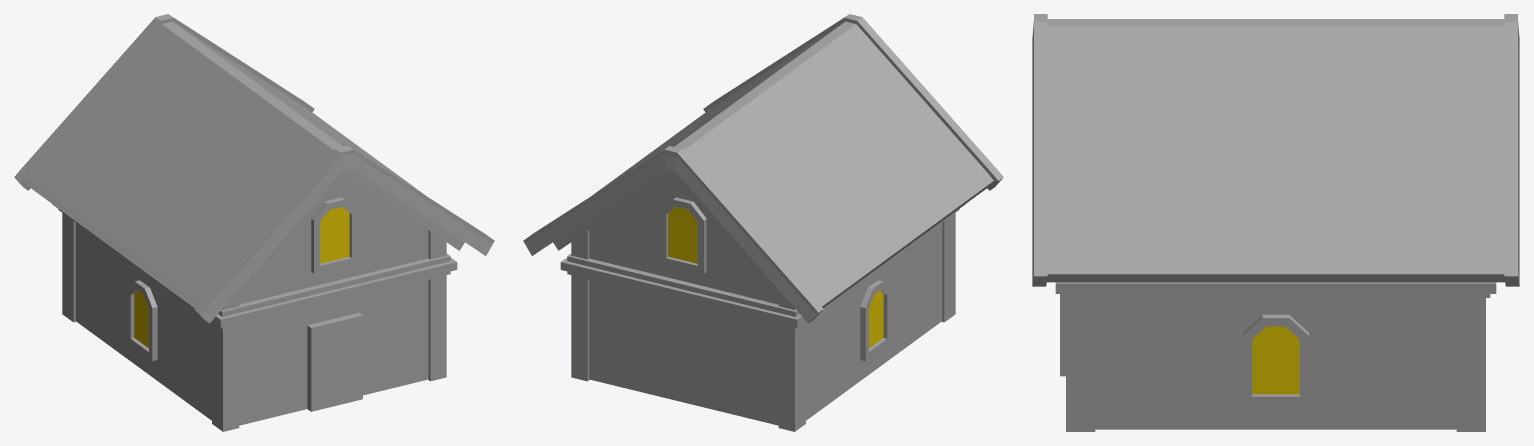
Rendered from SM_House_02.fbx.
3 views of the same model, side by side, from view 1: azimuth 30°, elevation 25°; view 2: azimuth 150°, elevation 25°; view 3: azimuth 270°, elevation 25° (orthographic). The views are drawn at different scales.
Parts seen in each view (by area): view 1: pCube22, pCube1, pCube8, pCube3, pCube15, pCube23; view 2: pCube22, pCube1, pCube8, pCube15, pCube23; view 3: pCube22, pCube1, pCube8, pCube23, pCube3.
Part boxes in pixels (x1,y1,x2,y2): pCube22: (14,14,494,323); pCube1: (52,173,457,425); pCube8: (62,213,446,431); pCube3: (307,312,362,411); pCube15: (311,197,357,273); pCube23: (127,280,157,360); pCube22: (523,14,1003,323); pCube1: (560,173,965,425); pCube8: (571,213,955,431); pCube15: (660,197,706,273); pCube23: (860,280,890,360); pCube22: (1032,14,1519,286); pCube1: (1055,282,1496,429); pCube8: (1066,298,1485,431); pCube23: (1243,314,1308,405); pCube3: (1060,294,1065,376).
Size of the model in its own units: 1148 by 975 by 1256.
